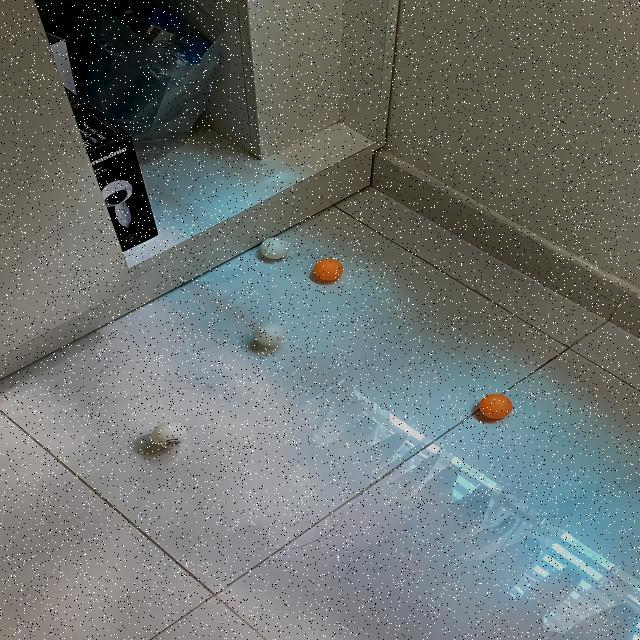ping-pong-ball: (479, 394, 514, 420), (155, 422, 189, 448), (254, 322, 286, 348), (312, 258, 344, 282), (260, 236, 290, 260)
